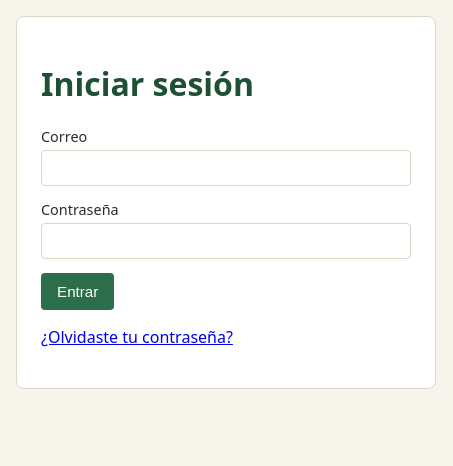
Scenario: Inicio de sesión y contexto (US2) › muestra el error de correo no verificado
This screenshot has width=453, height=466.
Type "ana@example.com" into the field labelled "Correo" at (226, 168), box x1=41 y1=150 x2=411 y2=186
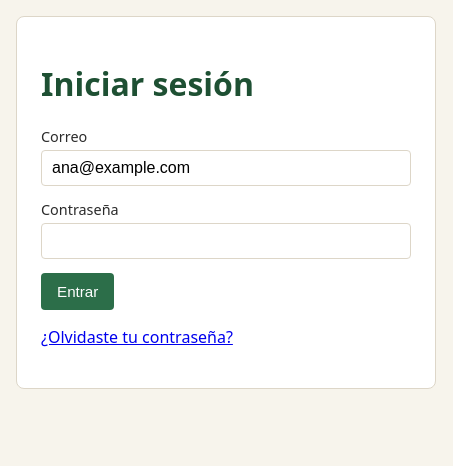
Type "clave" into the password field labelled "Contraseña" at (226, 241), box x1=41 y1=223 x2=411 y2=259
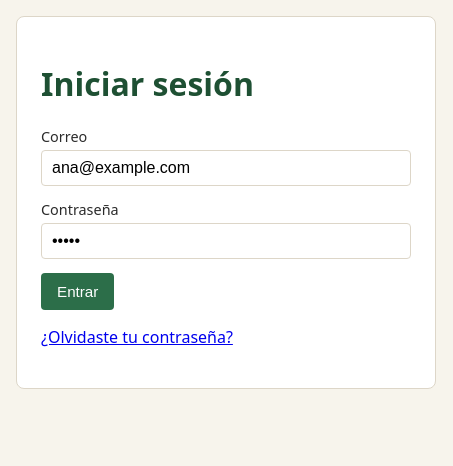
Click the button "Entrar" at (78, 291), box x1=41 y1=273 x2=114 y2=310
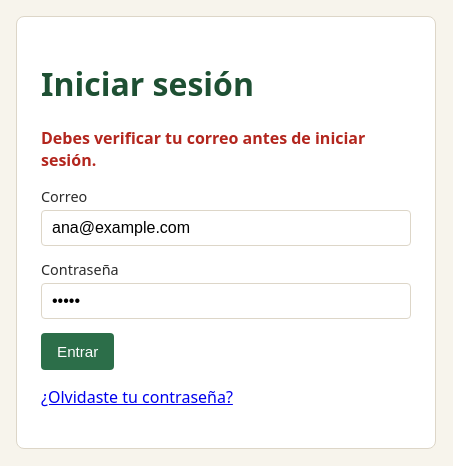
Now the text "Debes verificar tu correo antes de iniciar sesión." is shown, box x1=41 y1=127 x2=411 y2=171
